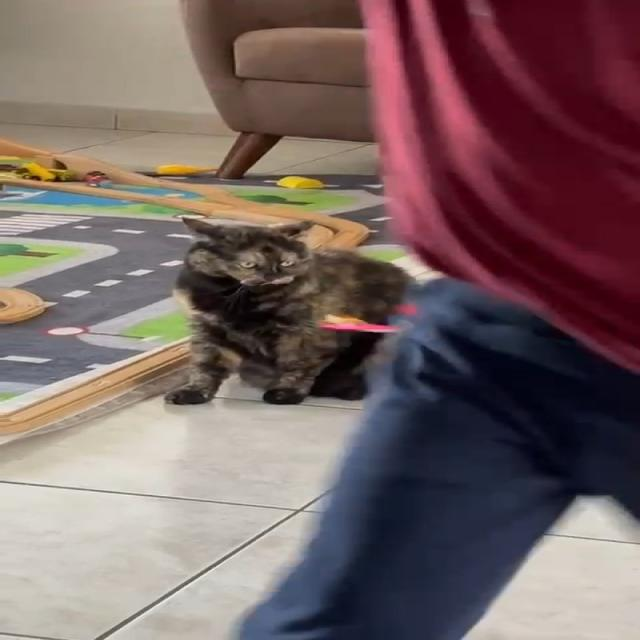authorized: (164, 215, 417, 405)
